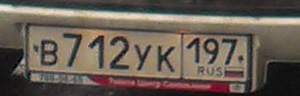character: (153, 42, 179, 78), (60, 30, 84, 68), (107, 33, 131, 71), (86, 31, 107, 69), (39, 36, 59, 68), (132, 44, 153, 74), (202, 35, 221, 67), (185, 36, 203, 67), (221, 36, 239, 67)
